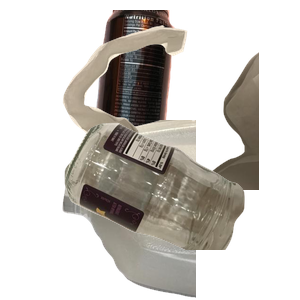glass: (62, 120, 300, 300)
metal: (91, 10, 258, 188)
plastic: (60, 120, 300, 300)
trash: (60, 23, 300, 203)
